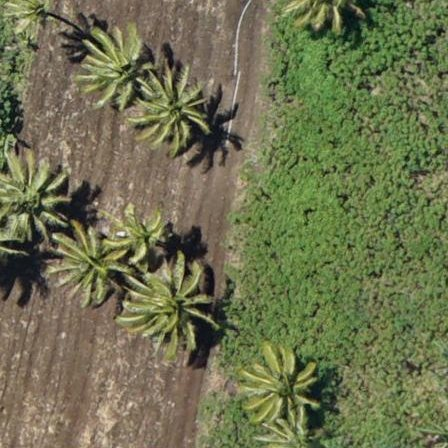palm_tree: (236, 338, 324, 433), (137, 260, 216, 344), (1, 152, 67, 231), (135, 73, 204, 146), (87, 34, 155, 106), (63, 232, 122, 296), (110, 213, 168, 265), (5, 1, 63, 38)
